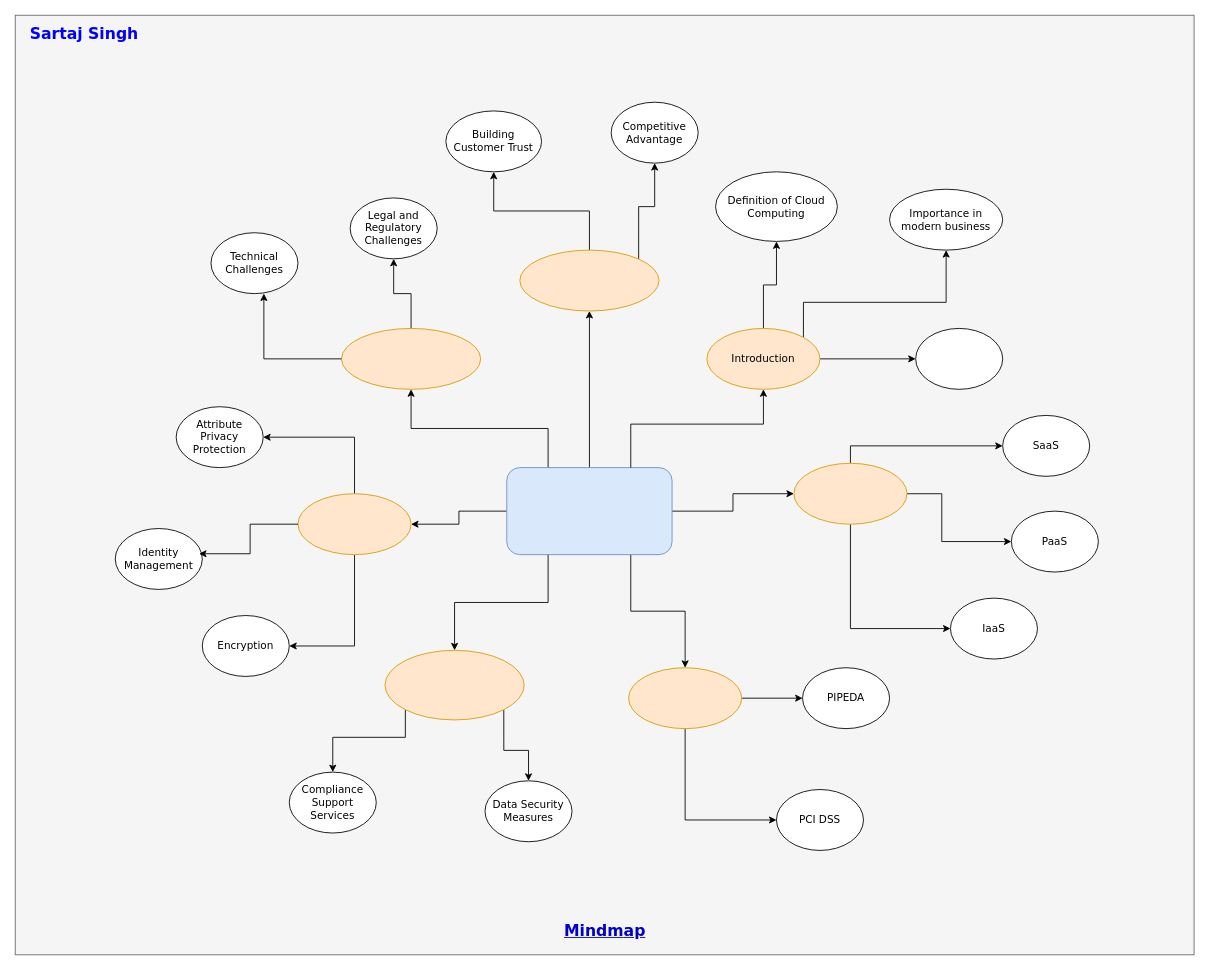
This 1209x970 diagram has some shape labels left out. Each missing label, with the centre of its shape:
"Challenges in Achieving Privacy Compliance" belongs at (411,358).
"Cloud Service Provider and Privacy Compliance" belongs at (454,684).
"Impact on Businesses" belongs at (589,280).
"Importance of Privacy" belongs at (959,358).
"Key Privacy Compliance Regulations" belongs at (685,698).
"Role of Cloud Computing Enhancing Privacy Compliance" belongs at (589,511).
"Technologies Enhancing Privacy" belongs at (354,524).
"Types of Cloud Computing" belongs at (850,493).
